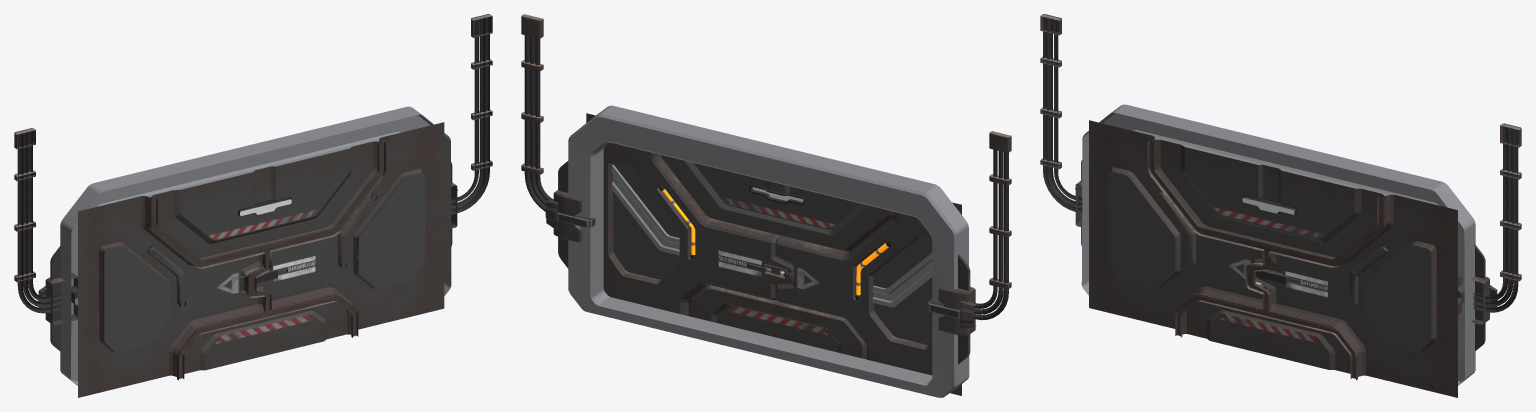
Rendered from Door.gltf.
The picture shows the model from 3 angles, left to right: view 1: azimuth 30°, elevation 25°; view 2: azimuth 150°, elevation 25°; view 3: azimuth 330°, elevation 25°; orthographic projection. The views are drawn at different scales.
Parts seen in each view (by area): view 1: Plane.001; view 2: Plane.001; view 3: Plane.001.
Boxes of the visible parts, box(x1,y1,x2,y2) form: Plane.001: box(14, 14, 492, 397); Plane.001: box(521, 14, 1011, 397); Plane.001: box(1040, 14, 1521, 397).
Size of the model in its own units: 9.66 by 5.33 by 0.8161.
Materials: 2 (1 with a texture image).
